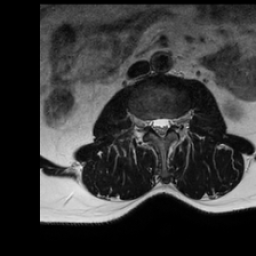CCS_normal: (158, 112, 164, 142)
LFS_normal: (173, 113, 179, 132)
LLS_normal: (164, 113, 171, 134)
RFS_normal: (142, 114, 149, 133)
RLS_normal: (149, 113, 158, 135)
